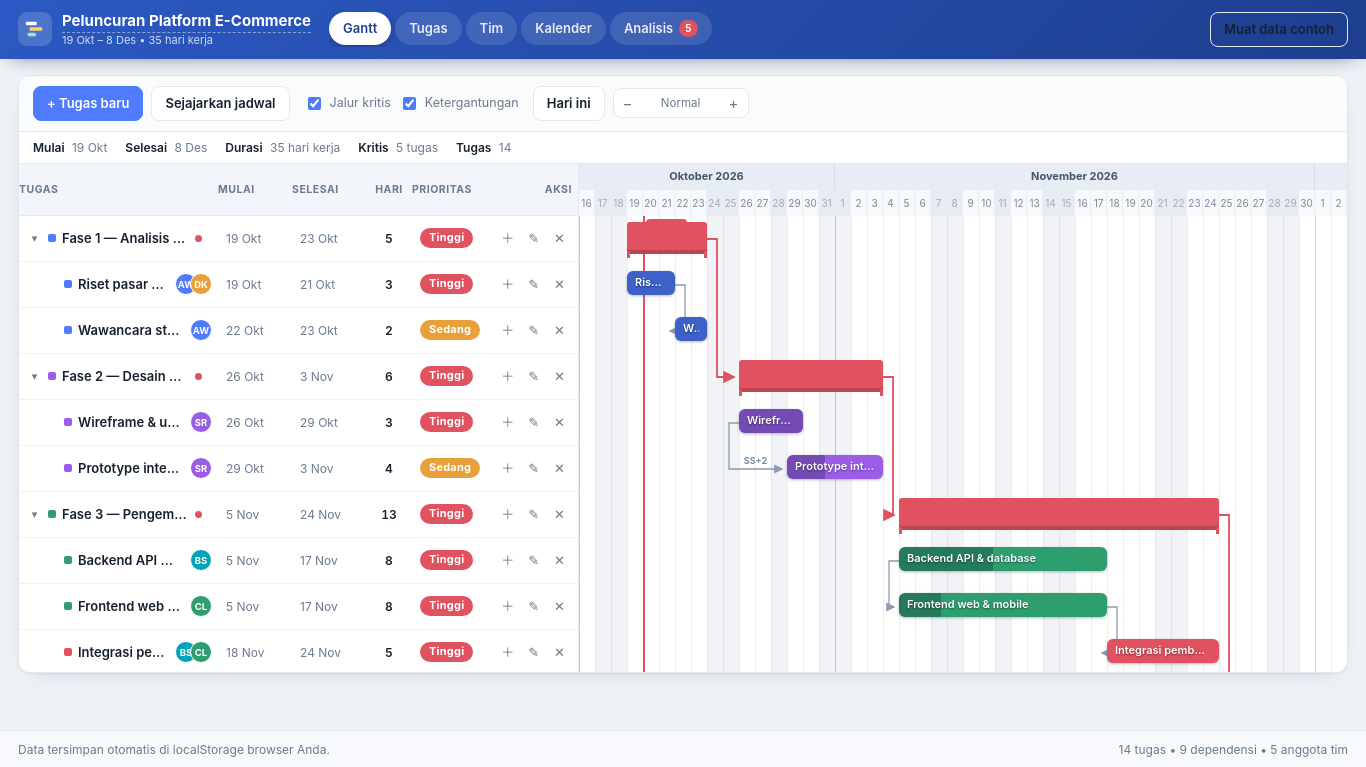
Test: Aplikasi utama › menampilkan tabel anggota tim dan alokasi pada tab Tim
This screenshot has width=1366, height=767.
Click the button "Tim" at x=491, y=28, box [466, 12, 517, 45]
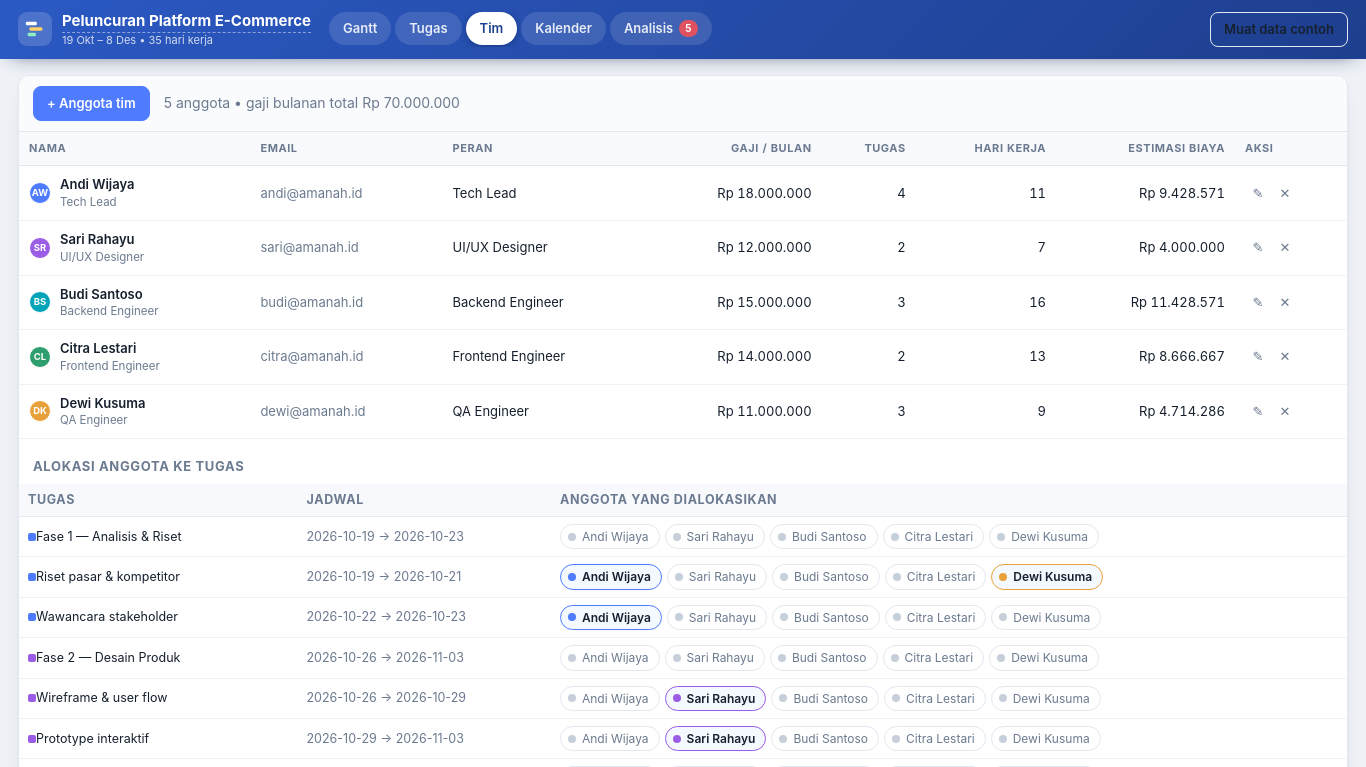
Check: the text "Andi Wijaya" is shown, box [60, 176, 134, 194]
Check: the text "andi@amanah.id" is shown, box [250, 166, 442, 220]
Check: the text "Tech Lead" is shown, box [60, 195, 117, 209]
